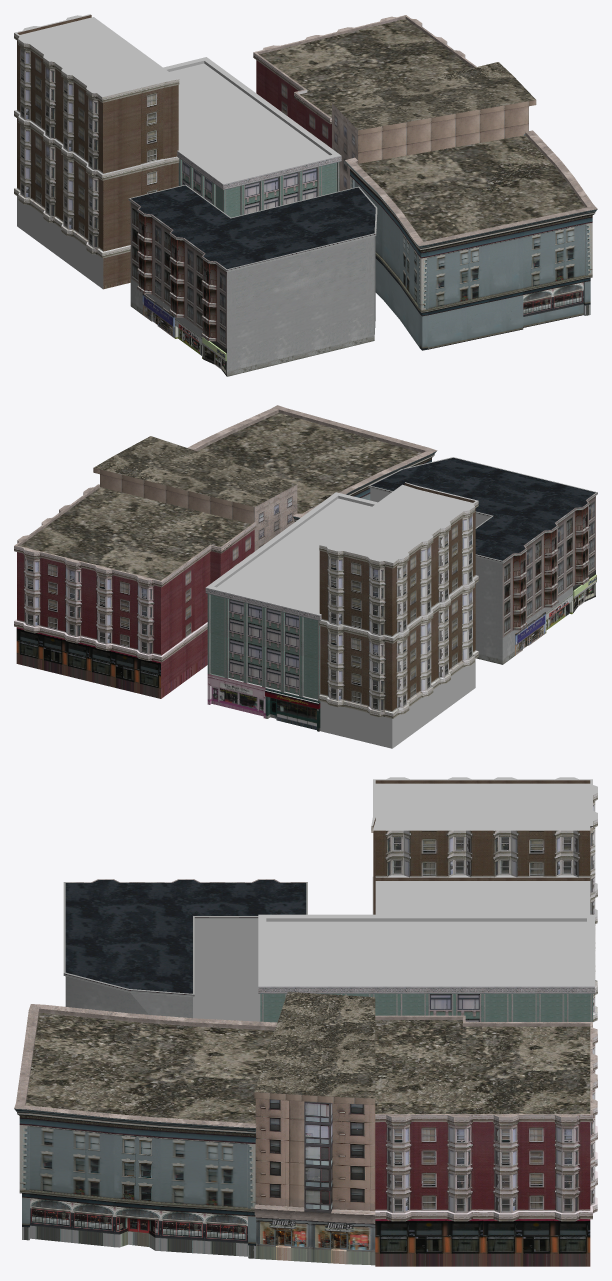
The model's file is building 2.fbx.
3 renders of one model, top to bottom at view 1: azimuth 30°, elevation 25°; view 2: azimuth 150°, elevation 25°; view 3: azimuth 270°, elevation 25°, orthographic. The views are drawn at different scales.
Visible parts, largest first — view 1: 13daaa18.obj, 1426b6d8.obj001, 13edbd90.obj, 13c3bfa0.obj, 13bb0e58.obj, 13ec7358.obj, 13c1e038.obj, 14283e88.obj, 1426b6d8.obj, 14095540.obj, 13c3f1e0.obj, 13ba3320.obj (+14 smaller); view 2: 13daaa18.obj, 1426b6d8.obj001, 13d59cd0.obj, 1426b6d8.obj, 13c3bfa0.obj, 14283e88.obj, 13c1e038.obj, 13b8fb60.obj, 13ec9900.obj, 13e69800.obj, 14267008.obj, 13ba3320.obj (+12 smaller); view 3: 13daaa18.obj, 13d59cd0.obj, 1426b6d8.obj001, 13c1e038.obj, 13bb0e58.obj, 13c3bfa0.obj, 13be7580.obj, 13ec9900.obj, 13ba3320.obj, 14271828.obj, 13d8a0b0.obj, 140c2618.obj (+12 smaller).
Part boxes in pixels (x1,y1,x2,y2): 13daaa18.obj: [259, 19, 585, 241]; 1426b6d8.obj001: [14, 14, 180, 173]; 13edbd90.obj: [174, 236, 375, 348]; 13c3bfa0.obj: [131, 185, 375, 269]; 13bb0e58.obj: [349, 165, 586, 315]; 13ec7358.obj: [354, 181, 590, 350]; 13c1e038.obj: [169, 63, 329, 180]; 14283e88.obj: [128, 184, 377, 348]; 1426b6d8.obj: [14, 111, 179, 258]; 14095540.obj: [358, 100, 536, 163]; 13c3f1e0.obj: [130, 279, 375, 376]; 13ba3320.obj: [253, 15, 597, 245]; 13daaa18.obj: [19, 413, 421, 580]; 1426b6d8.obj001: [318, 482, 478, 636]; 13d59cd0.obj: [14, 492, 256, 662]; 1426b6d8.obj: [319, 576, 478, 718]; 13c3bfa0.obj: [371, 458, 595, 560]; 14283e88.obj: [368, 457, 597, 637]; 13c1e038.obj: [217, 498, 371, 611]; 13b8fb60.obj: [210, 598, 303, 696]; 13ec9900.obj: [16, 627, 160, 698]; 13e69800.obj: [161, 548, 229, 698]; 14267008.obj: [320, 659, 475, 748]; 13ba3320.obj: [14, 405, 436, 581]; 13daaa18.obj: [26, 991, 590, 1123]; 13d59cd0.obj: [375, 1025, 597, 1221]; 1426b6d8.obj001: [371, 777, 597, 915]; 13c1e038.obj: [266, 921, 586, 983]; 13bb0e58.obj: [28, 1109, 247, 1215]; 13c3bfa0.obj: [65, 880, 306, 993]; 13be7580.obj: [255, 1098, 375, 1213]; 13ec9900.obj: [375, 1219, 590, 1266]; 13ba3320.obj: [14, 1004, 597, 1223]; 14271828.obj: [372, 875, 597, 917]; 13d8a0b0.obj: [22, 1198, 255, 1258]; 140c2618.obj: [193, 919, 260, 1015].
Bounding box in the file's own units: 88.18 × 42.03 × 89.06.
